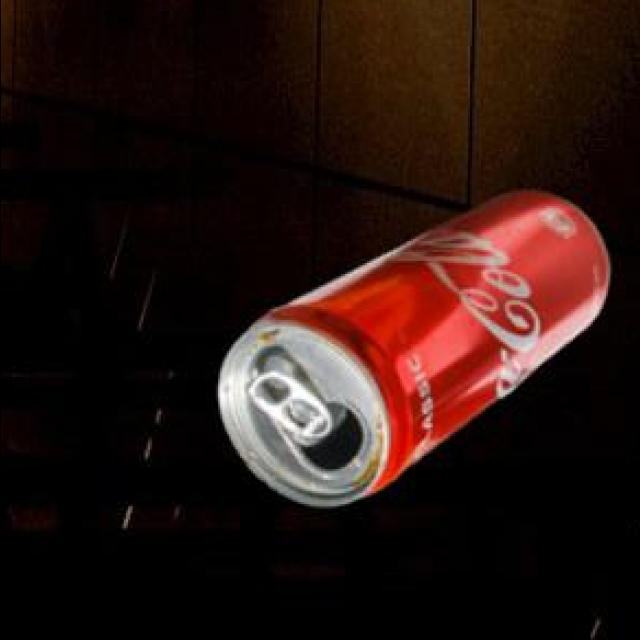logam: (214, 194, 606, 510)
